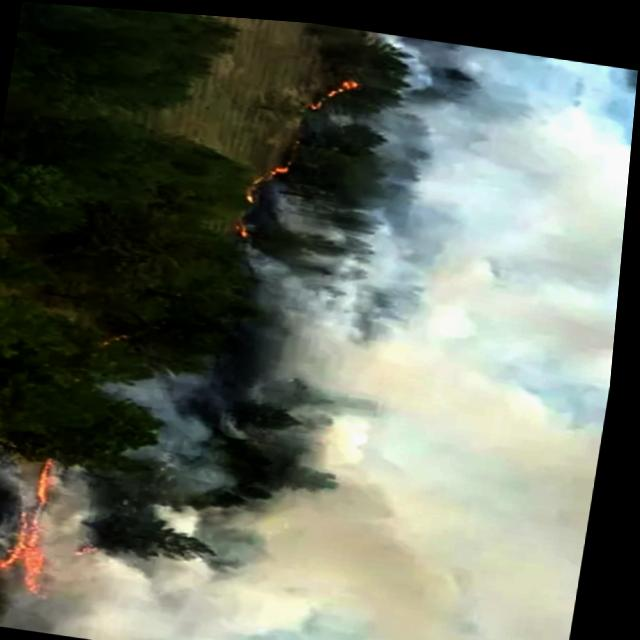no_helmet: (245, 17, 640, 640)
